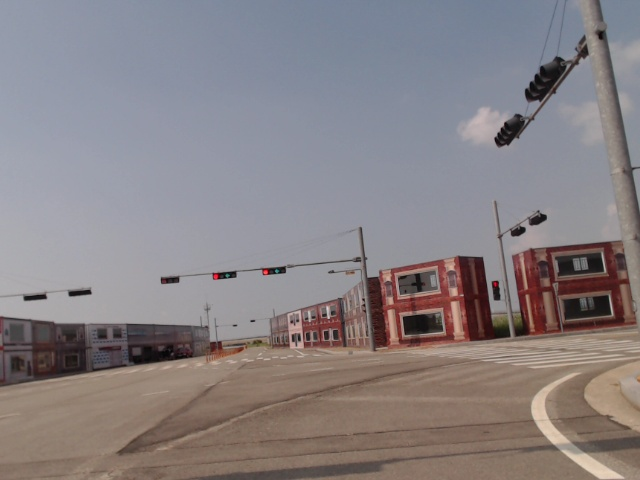left_green_4: (263, 263, 286, 275), (213, 270, 237, 280)
